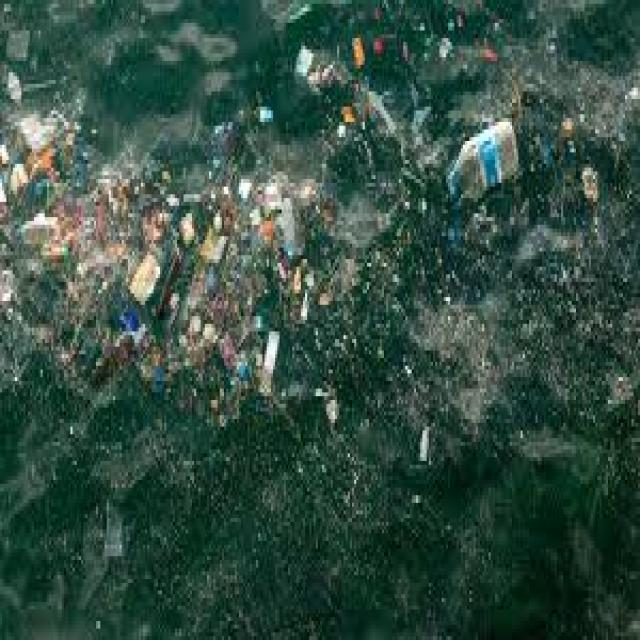plastic watse: (0, 122, 331, 415), (293, 30, 395, 187), (448, 118, 516, 198)
